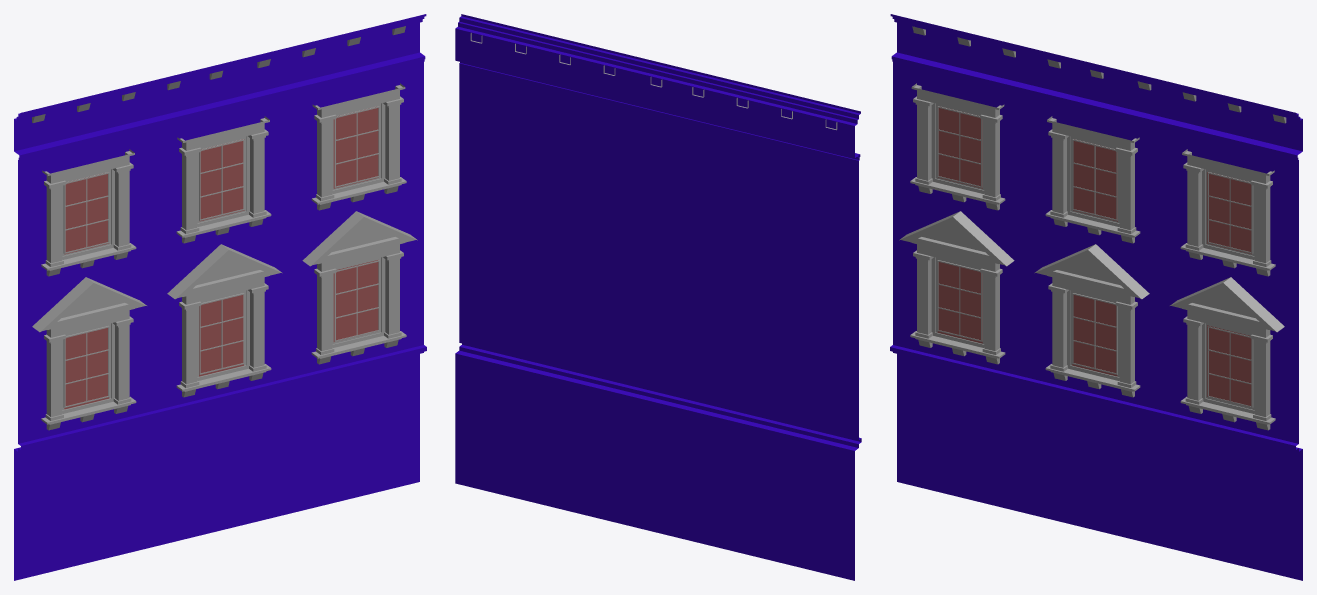
The model's file is Prop_WallExt9x10_01.fbx.
3 renders of one model, left to right at view 1: azimuth 30°, elevation 25°; view 2: azimuth 150°, elevation 25°; view 3: azimuth 330°, elevation 25°, orthographic.
Parts seen in each view (by area): view 1: pPlane11; view 2: pPlane11; view 3: pPlane11.
Part boxes in pixels (x1,y1,x2,y2): pPlane11: (14,14,426,580); pPlane11: (455,14,861,580); pPlane11: (890,14,1302,580).
Size of the model in its own units: 901 by 1002 by 49.16.
